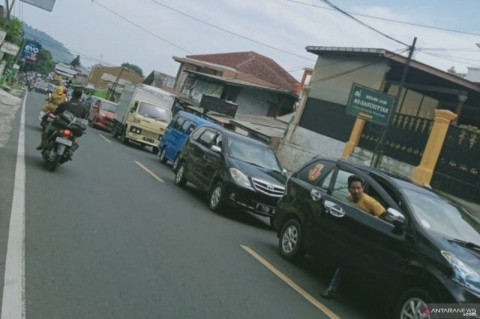mobil: (285, 151, 476, 301), (168, 105, 285, 226)
sepeda: (37, 74, 84, 178)
